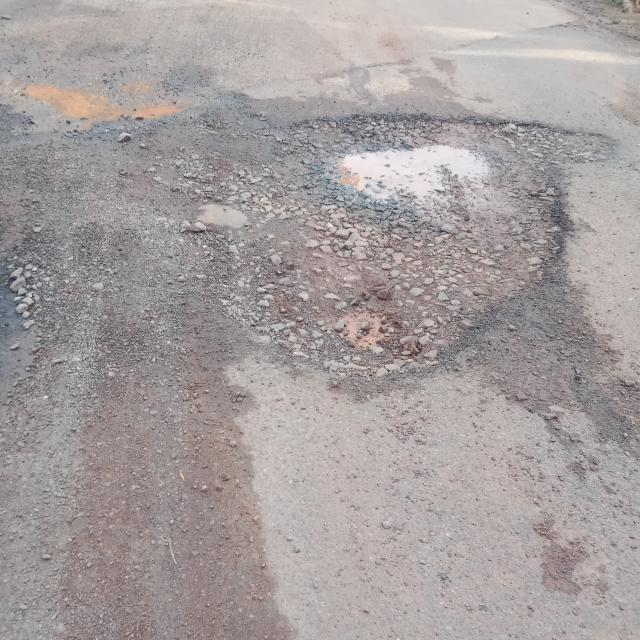pothole: (173, 103, 616, 393), (16, 69, 166, 135)
